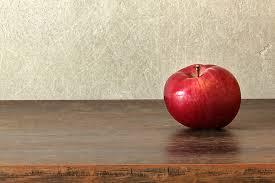Apple: (162, 60, 243, 138)
